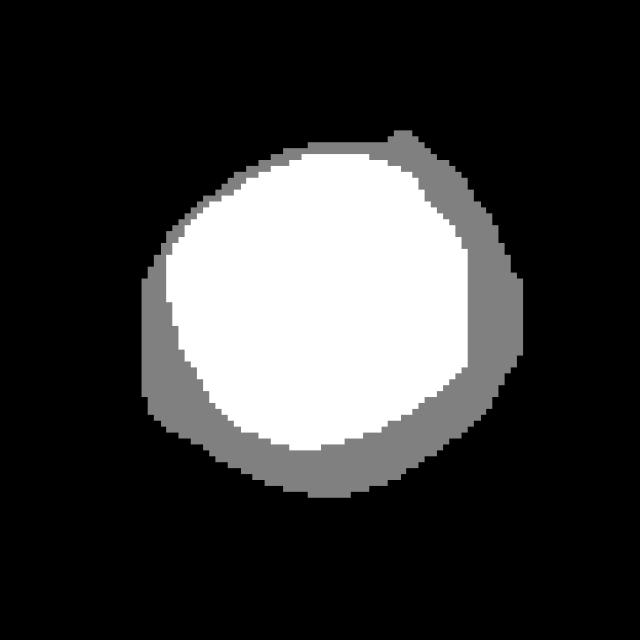WBC: (129, 124, 529, 504)
